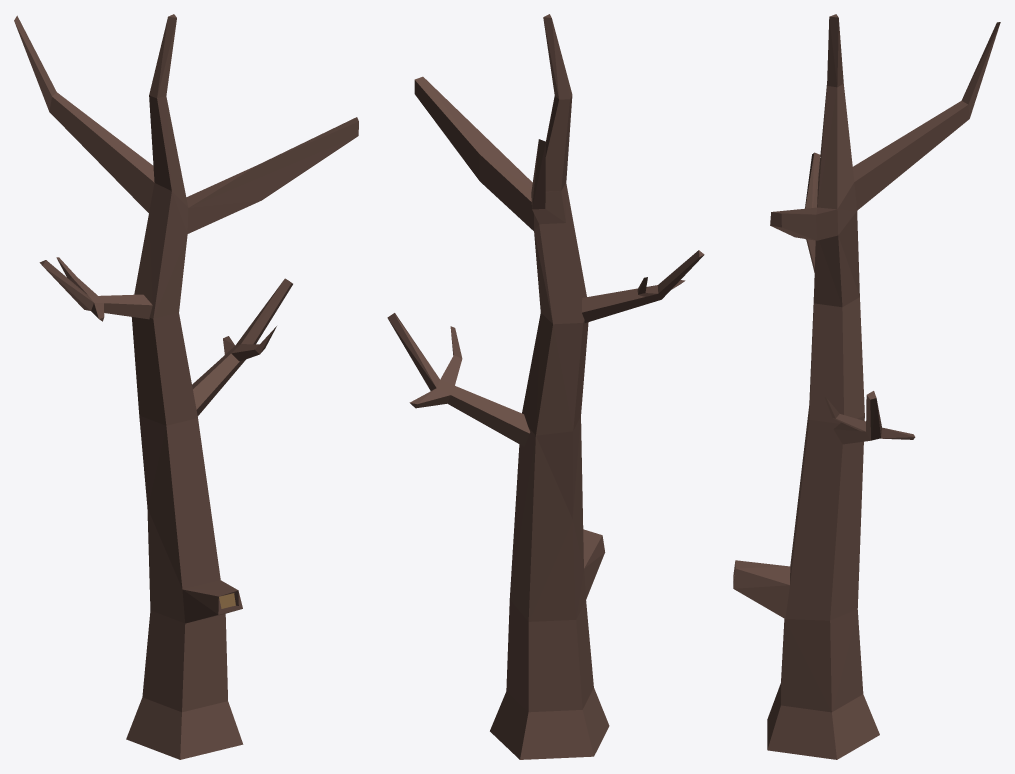
Rendered from ShuGan02.fbx.
3 views of the same model, side by side, from view 1: azimuth 30°, elevation 25°; view 2: azimuth 150°, elevation 25°; view 3: azimuth 270°, elevation 25° (orthographic). The views are drawn at different scales.
Visible parts, largest first — view 1: Tree2_1; view 2: Tree2_1; view 3: Tree2_1.
Part boxes in pixels (<box>): Tree2_1: <box>14,14,358,759</box>; Tree2_1: <box>387,14,704,759</box>; Tree2_1: <box>733,14,1000,759</box>.
Size of the model in its own units: 3.68 by 8.38 by 2.84.
